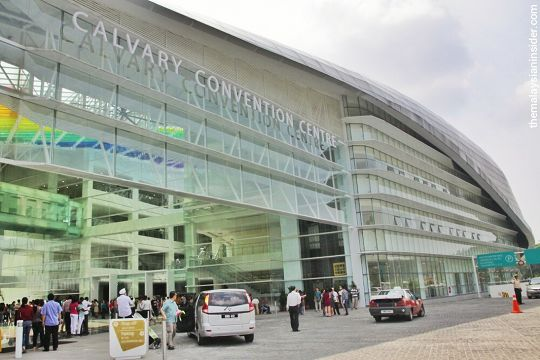Church: (15, 3, 522, 245)
